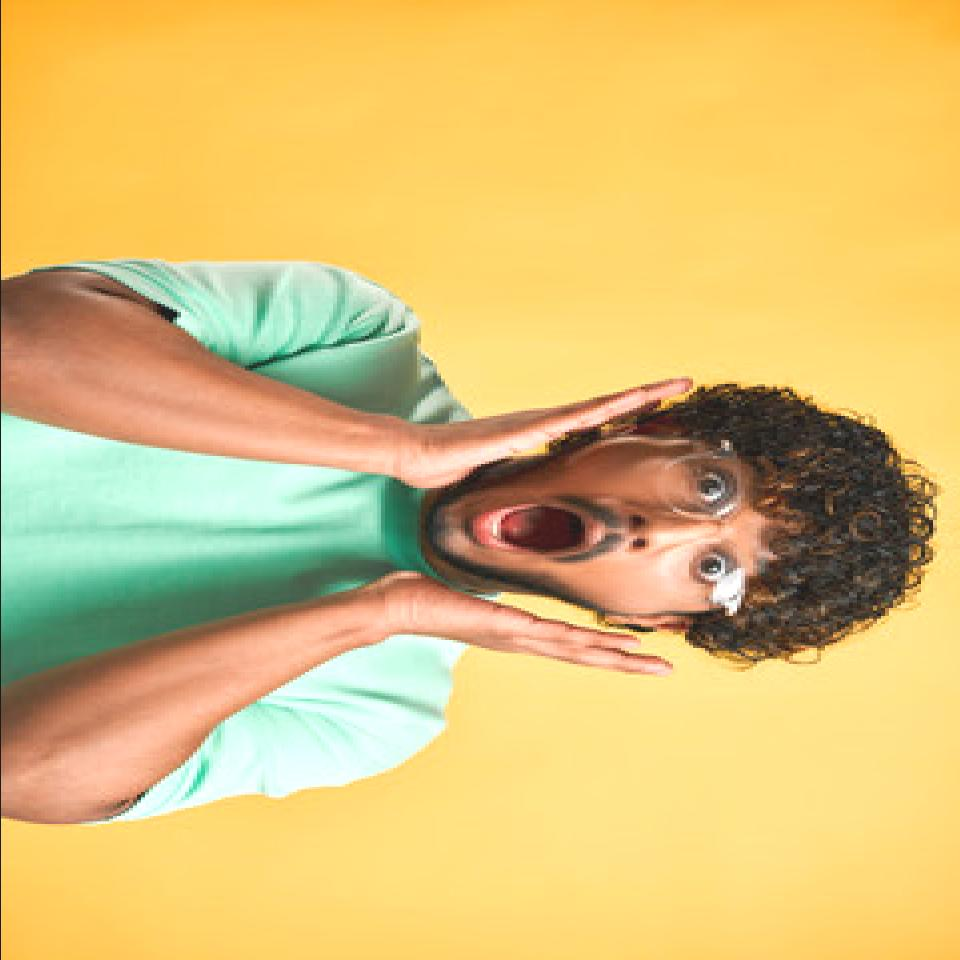Scared: (424, 431, 786, 615)
